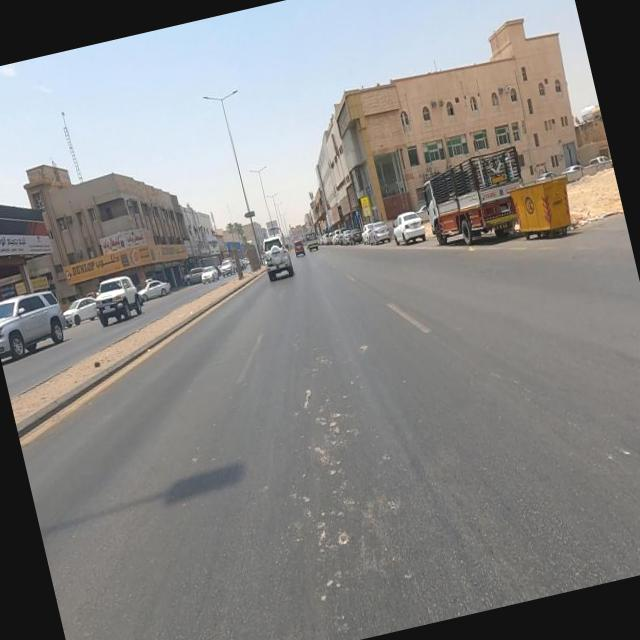debris: (312, 158, 378, 236), (300, 169, 366, 244)
